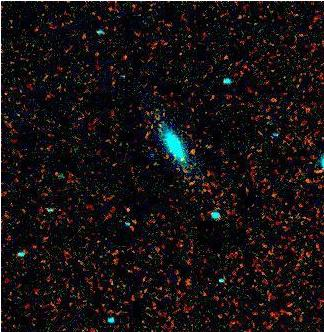star: (115, 193, 145, 223)
